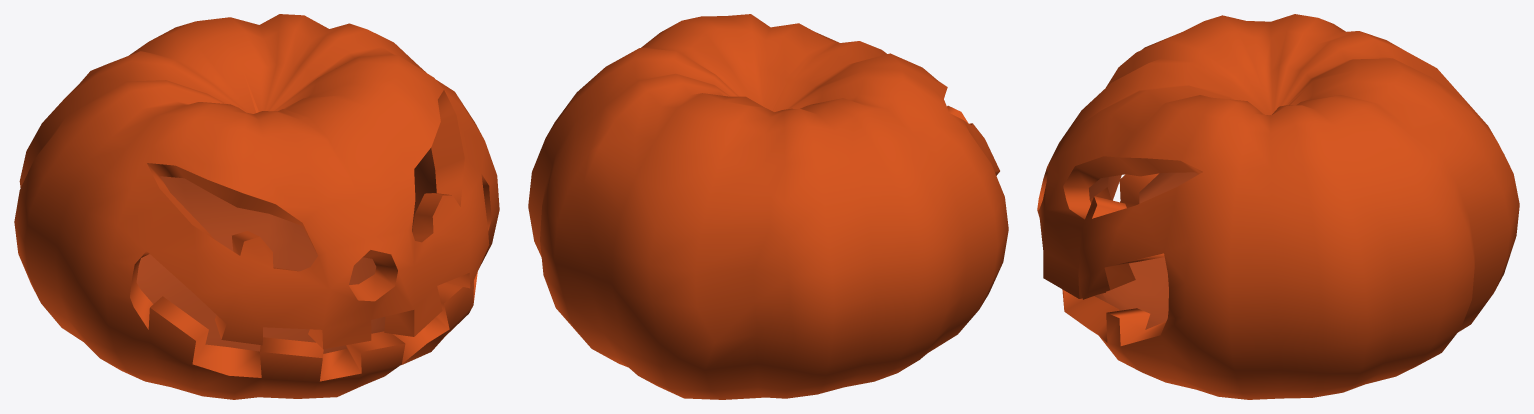
The model's file is jack2.glb.
3 views of the same model, side by side, from view 1: azimuth 30°, elevation 25°; view 2: azimuth 150°, elevation 25°; view 3: azimuth 270°, elevation 25° (orthographic).
Visible parts, largest first — view 1: jack2; view 2: jack2; view 3: jack2.
Boxes of the visible parts, box(x1,y1,x2,y2) form: jack2: box(14, 14, 499, 399); jack2: box(528, 14, 1008, 399); jack2: box(1037, 14, 1519, 399).
Bounding box in the file's own units: 1.12 × 0.7532 × 1.14.
